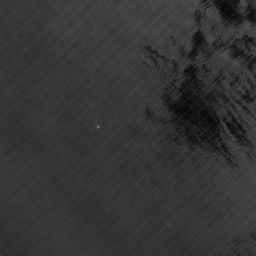Target: (94, 125, 101, 130)
